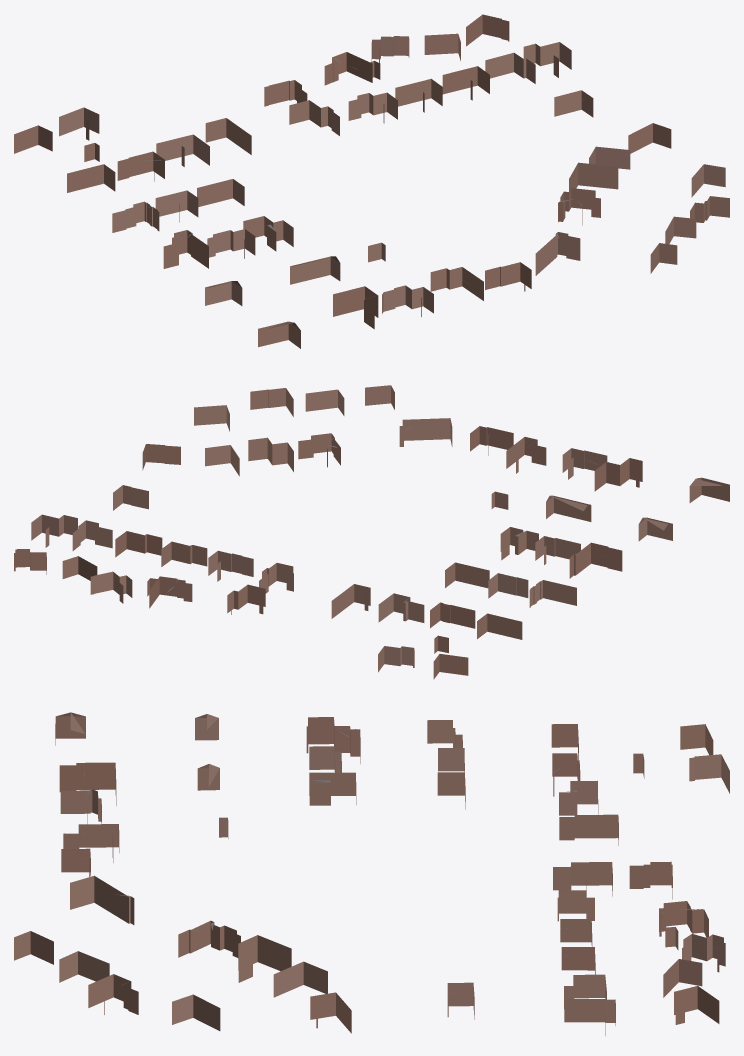
Rendered from c_1646_17836_buildings_residential.glb.
3 renders of one model, top to bottom at view 1: azimuth 30°, elevation 25°; view 2: azimuth 150°, elevation 25°; view 3: azimuth 270°, elevation 25°, orthographic. The views are drawn at different scales.
Parts seen in each view (by area): view 1: geometry_0; view 2: geometry_0; view 3: geometry_0.
Boxes of the visible parts, x1,y1,x2,y2 form: geometry_0: [14, 14, 729, 348]; geometry_0: [14, 385, 729, 679]; geometry_0: [14, 712, 729, 1035].
Bounding box in the file's own units: 264 × 11.08 × 264.
